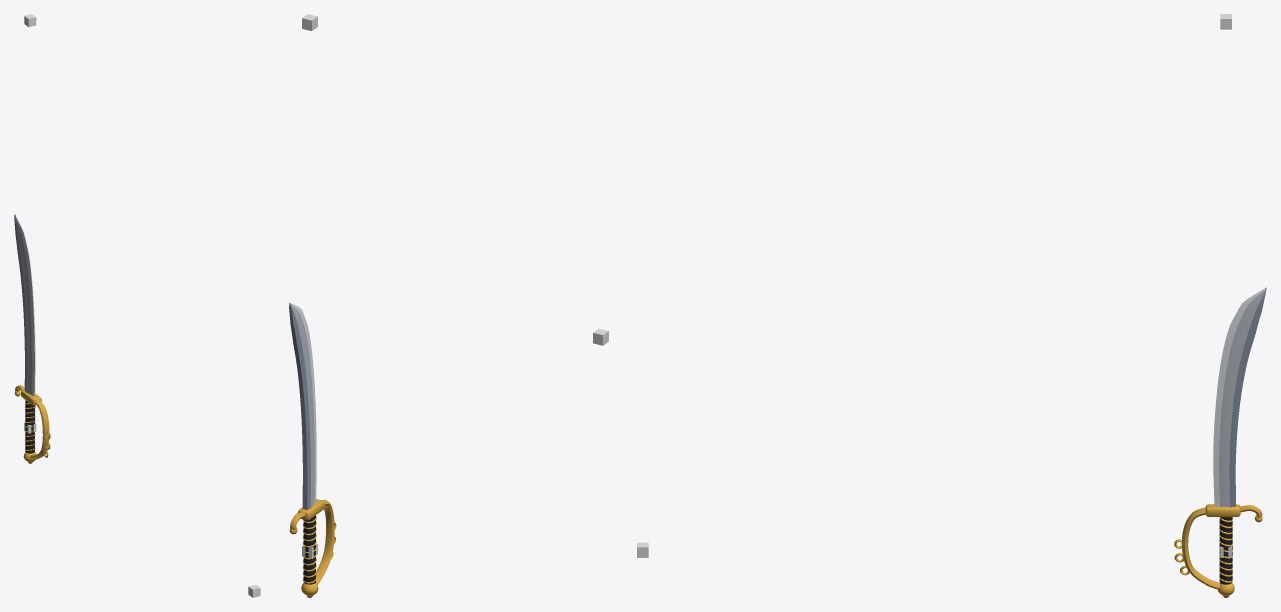
Rendered from KestrelSword.fbx.
The picture shows the model from 3 angles, left to right: view 1: azimuth 30°, elevation 25°; view 2: azimuth 150°, elevation 25°; view 3: azimuth 270°, elevation 25°; orthographic projection. The views are drawn at different scales.
Parts seen in each view (by area): view 1: Body; view 2: Body; view 3: Body.
Boxes of the visible parts, left/top/right/bottom form: Body: left=14, top=214, right=50, bottom=463; Body: left=289, top=302, right=336, bottom=597; Body: left=1174, top=287, right=1266, bottom=597.
Size of the model in its own units: 0.3 by 11 by 10.8.
1 material, 1 textured.
